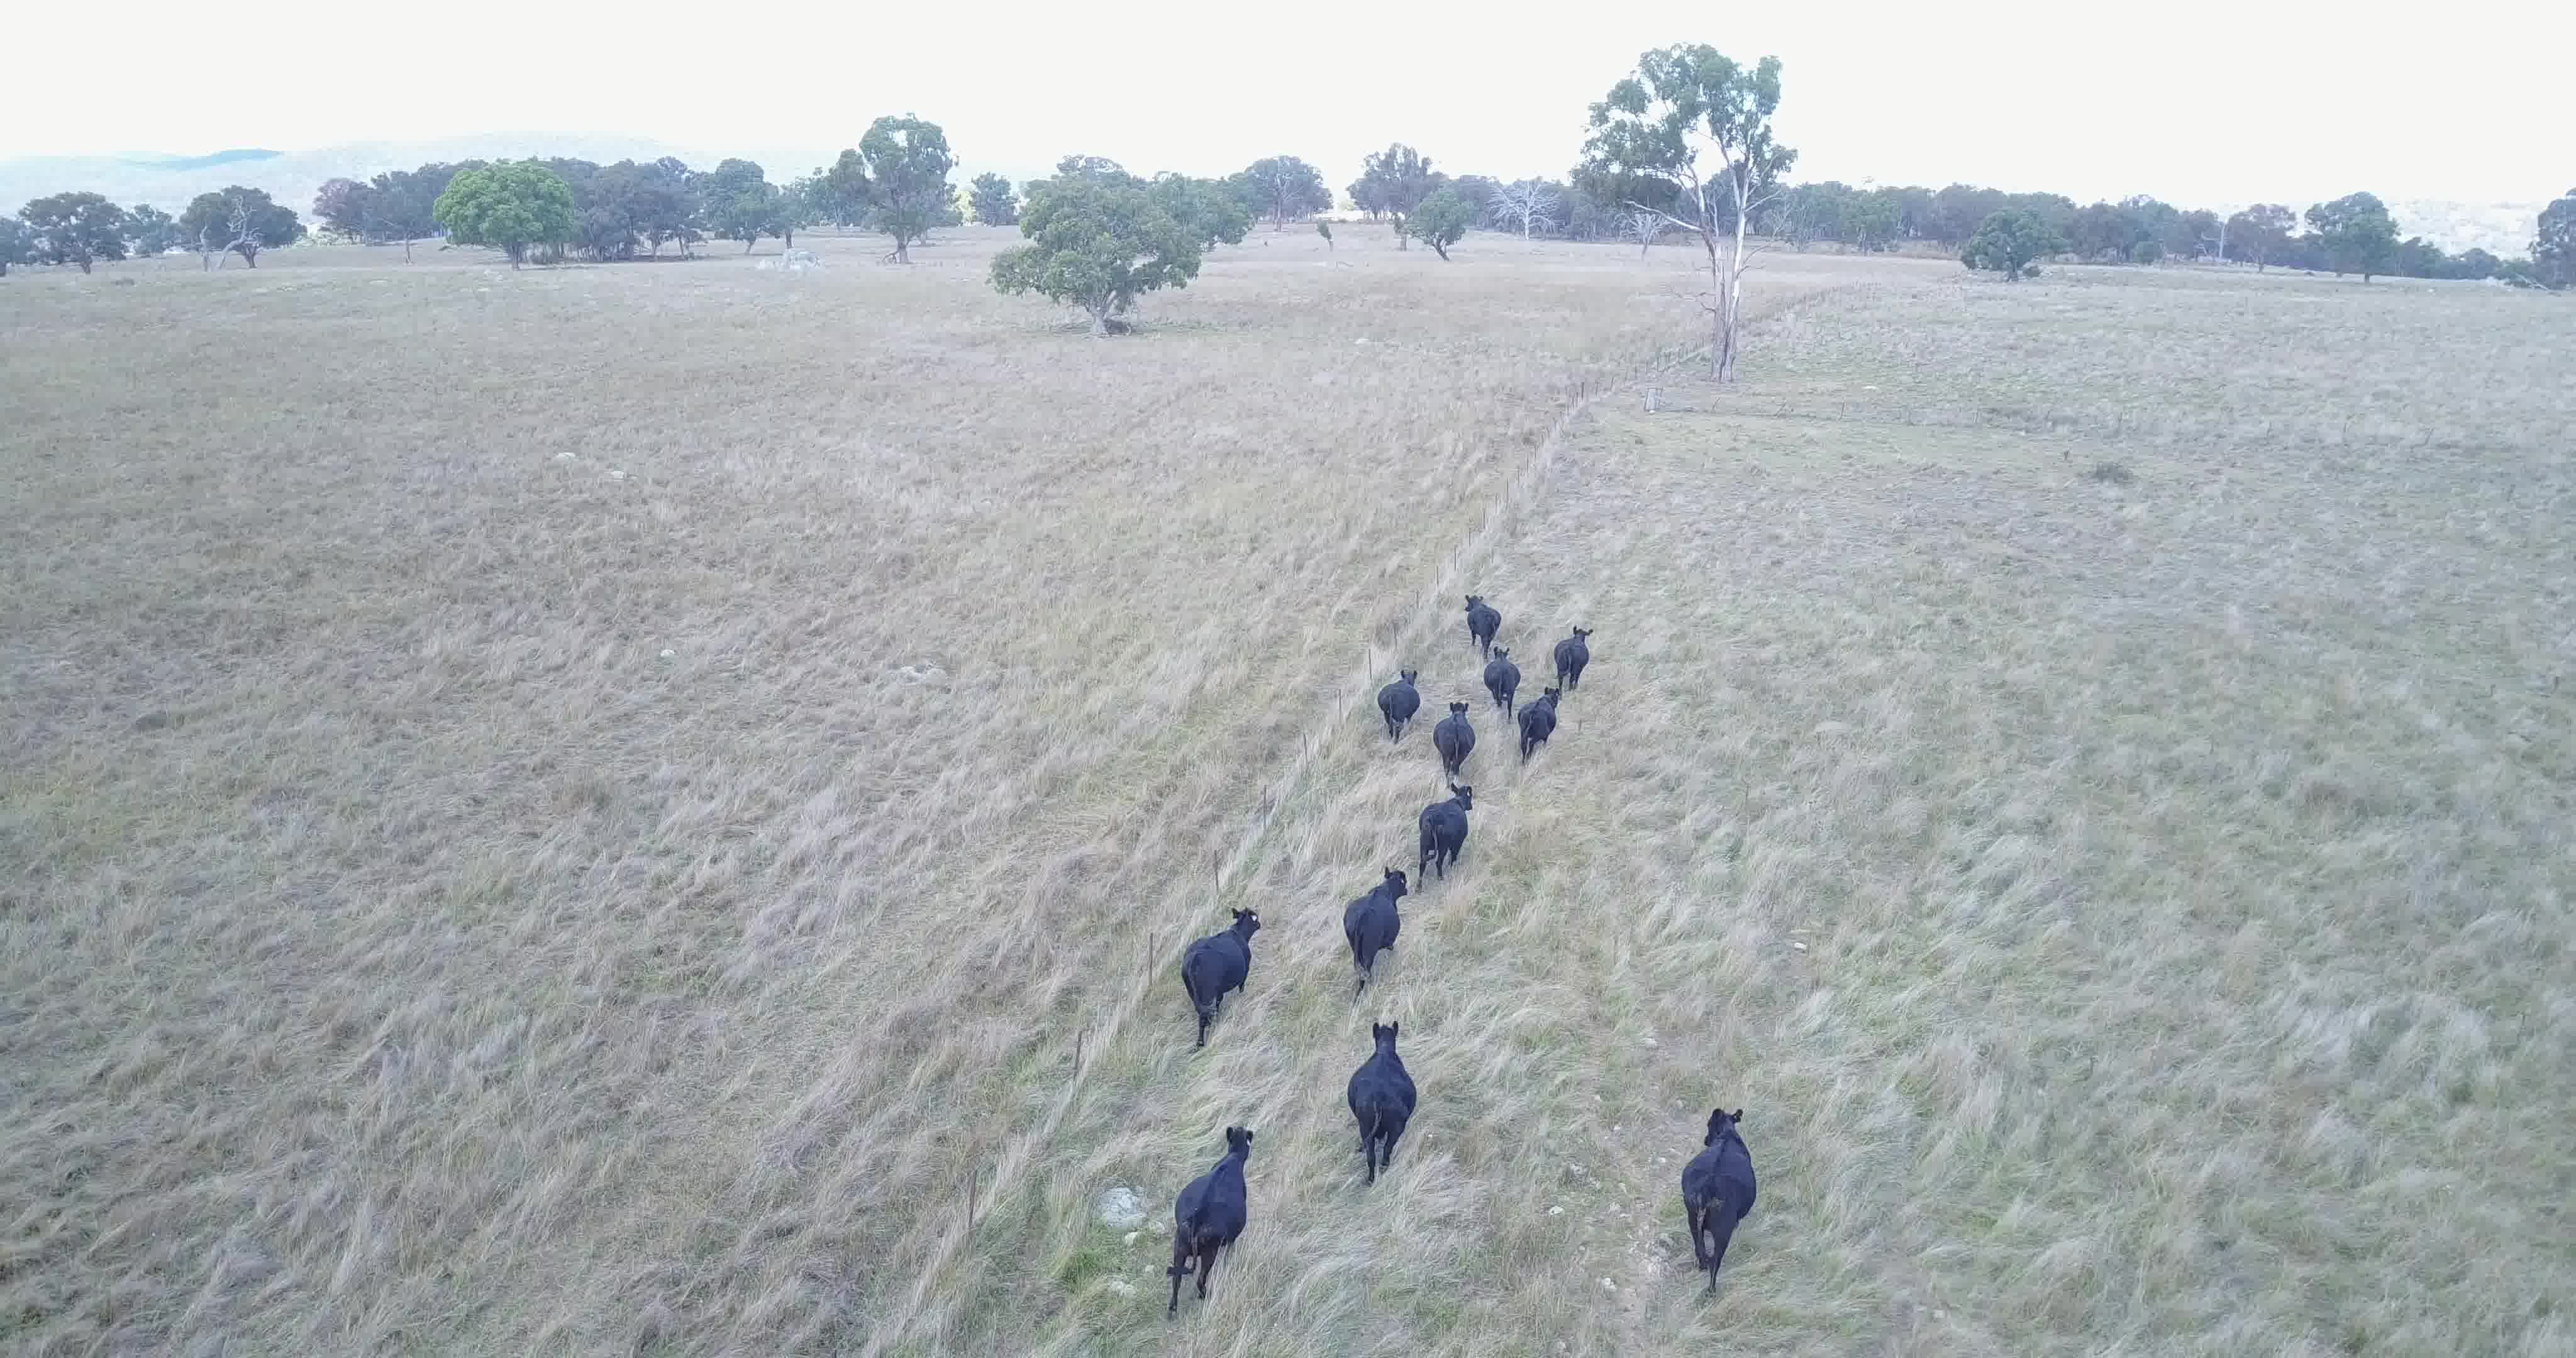cattle: (1159, 1123, 1254, 1322), (1671, 1104, 1760, 1300), (1343, 1022, 1421, 1191), (1177, 905, 1264, 1053), (1341, 866, 1412, 992), (1412, 780, 1477, 893), (1516, 687, 1564, 777), (1373, 668, 1423, 746), (1433, 699, 1477, 784), (1552, 624, 1596, 692), (1481, 647, 1523, 711), (1460, 593, 1503, 653)
